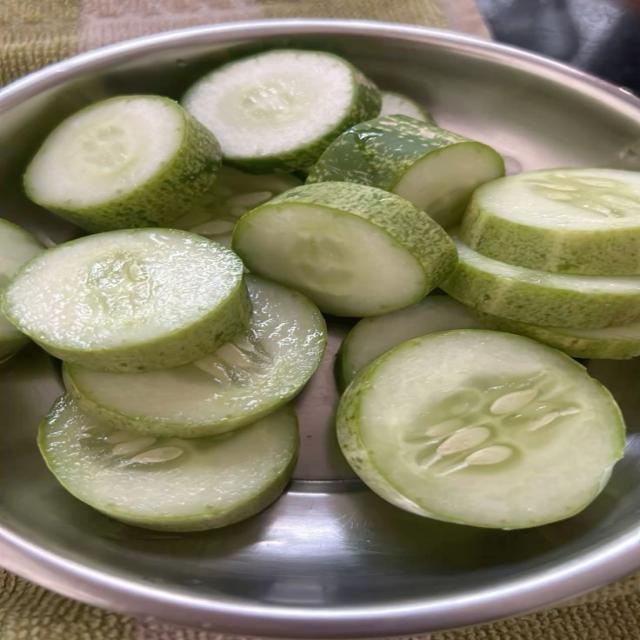cucumber sliced: (338, 330, 624, 528), (64, 276, 326, 437), (3, 229, 250, 372), (39, 396, 298, 531), (234, 183, 456, 316), (25, 96, 220, 231), (182, 50, 381, 172), (307, 115, 504, 227), (460, 169, 639, 275), (440, 238, 639, 328), (336, 296, 483, 389), (171, 167, 302, 247), (479, 312, 639, 359), (0, 219, 44, 297), (380, 92, 435, 124)
